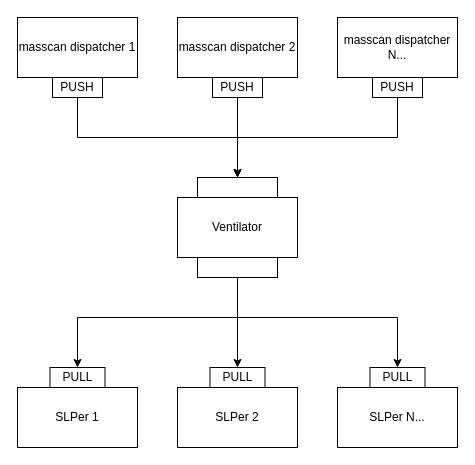
The diagram is 475 pixels wide and 465 high, and some of its shapes have lost their labels. The box of each missing label's shape, as (x1, y1, x2, y2) in pixels:
PULL (bind): (196, 176, 278, 198)
PUSH (bind): (196, 256, 278, 278)
